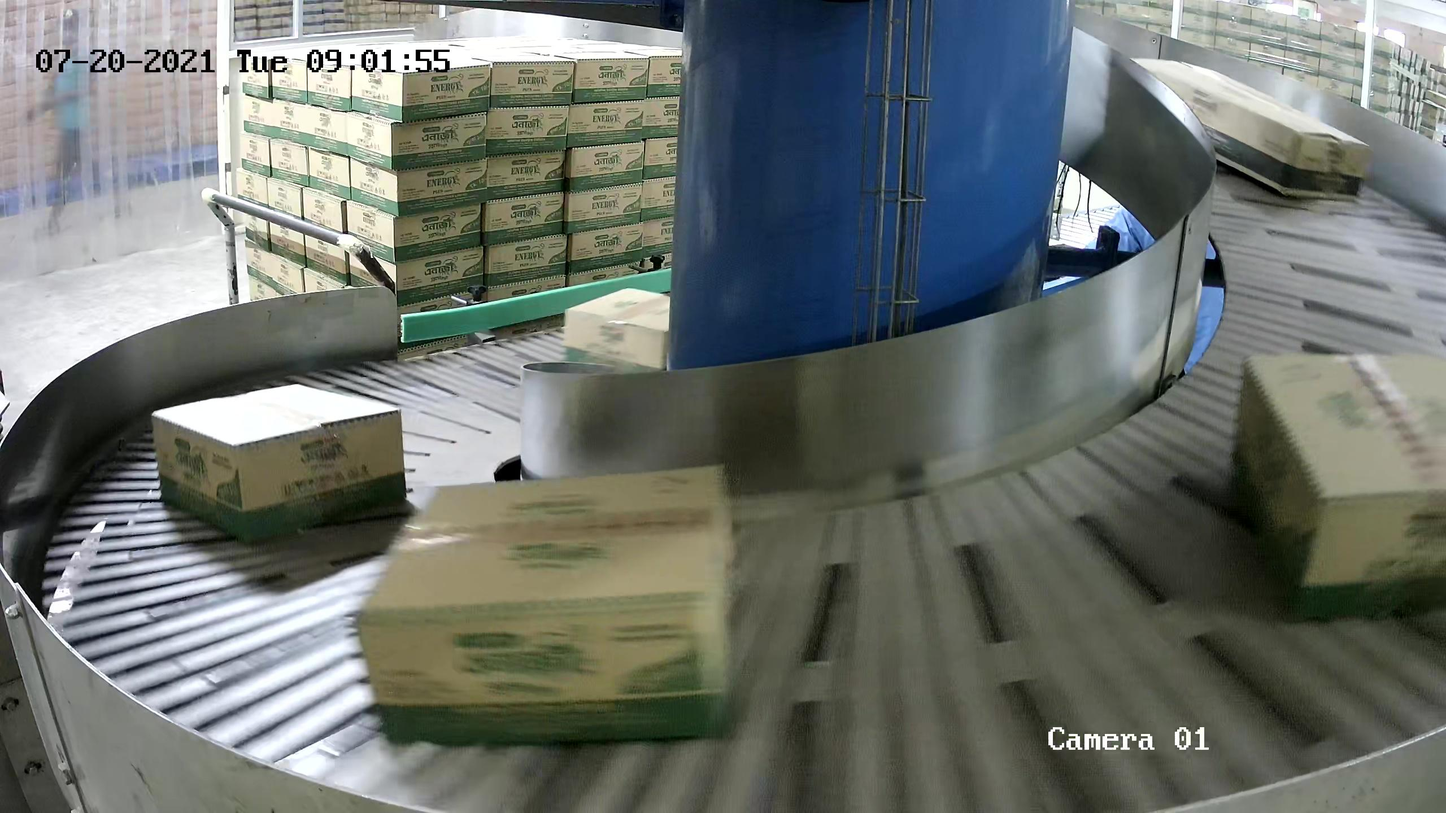Box: (351, 459, 742, 742), (1232, 350, 1446, 624), (150, 382, 409, 543), (1127, 56, 1371, 199), (563, 286, 670, 373)
